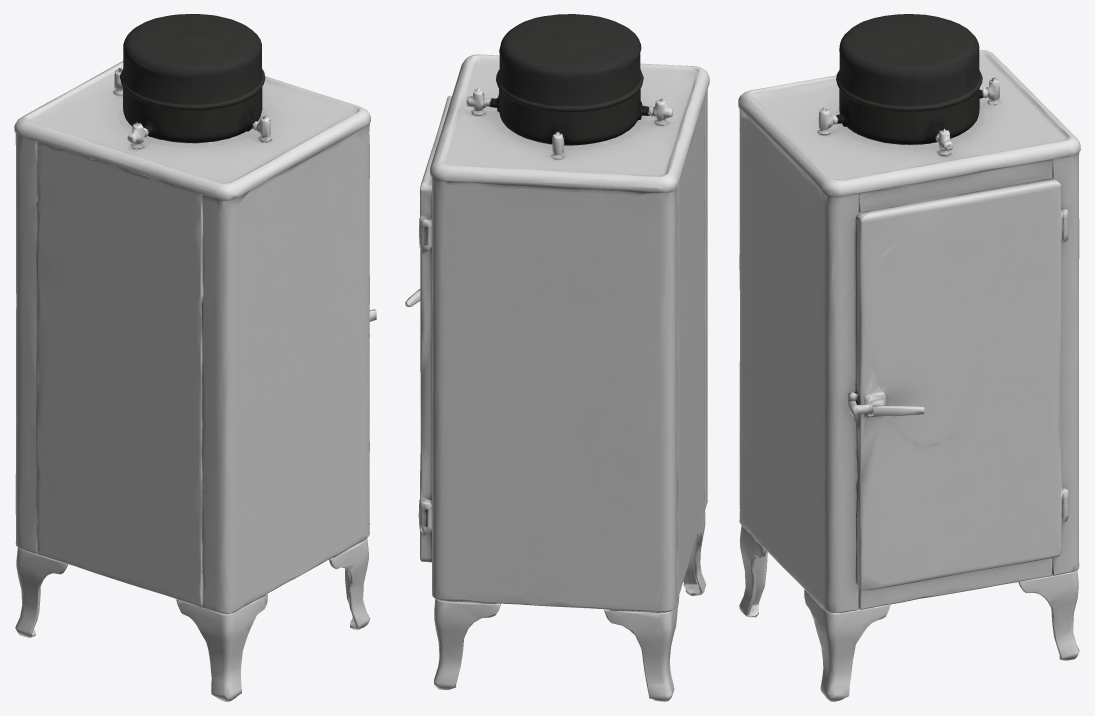
File: fridge2.glb
3 views of the same model, side by side, from view 1: azimuth 30°, elevation 25°; view 2: azimuth 150°, elevation 25°; view 3: azimuth 270°, elevation 25° (orthographic).
Parts seen in each view (by area): view 1: tripo_node_189c5032-5d23-4487-90f7-30b8180ed05a; view 2: tripo_node_189c5032-5d23-4487-90f7-30b8180ed05a; view 3: tripo_node_189c5032-5d23-4487-90f7-30b8180ed05a.
Part boxes in pixels (x1,y1,x2,y2): tripo_node_189c5032-5d23-4487-90f7-30b8180ed05a: (14, 14, 376, 701); tripo_node_189c5032-5d23-4487-90f7-30b8180ed05a: (405, 14, 709, 701); tripo_node_189c5032-5d23-4487-90f7-30b8180ed05a: (738, 14, 1080, 701).
Bounding box in the file's own units: 0.5127 × 0.9821 × 0.509.
1 material, 1 textured.
